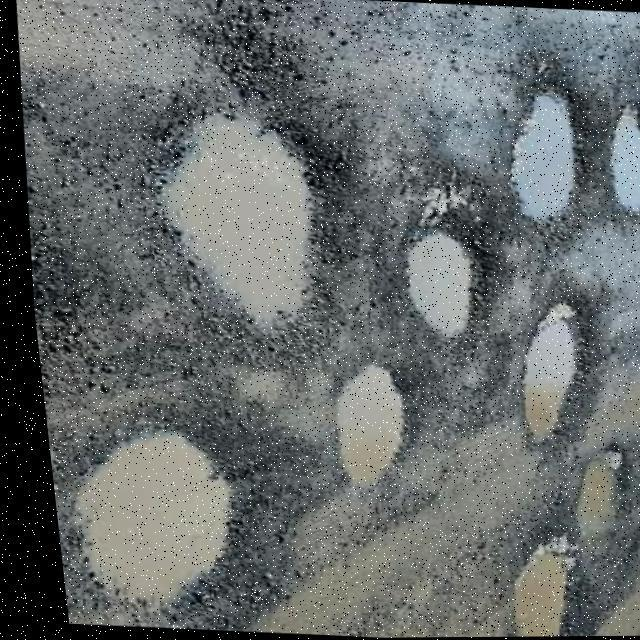pothole: (130, 102, 349, 340), (45, 415, 266, 624), (484, 81, 599, 228), (496, 294, 602, 451), (311, 353, 416, 492), (382, 222, 493, 344), (548, 446, 636, 561), (481, 538, 581, 638), (586, 99, 640, 218), (625, 404, 640, 509)
